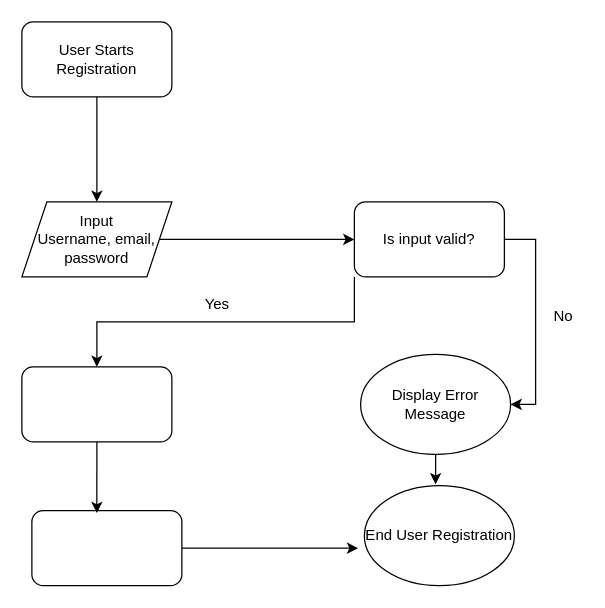
The diagram is 605 pixels wide and 608 high, and some of its shapes have lost their labels. Each missing label, with the centre of its shape:
Create User Account: the point at 96,404
Send confirmation email: the point at 106,547
